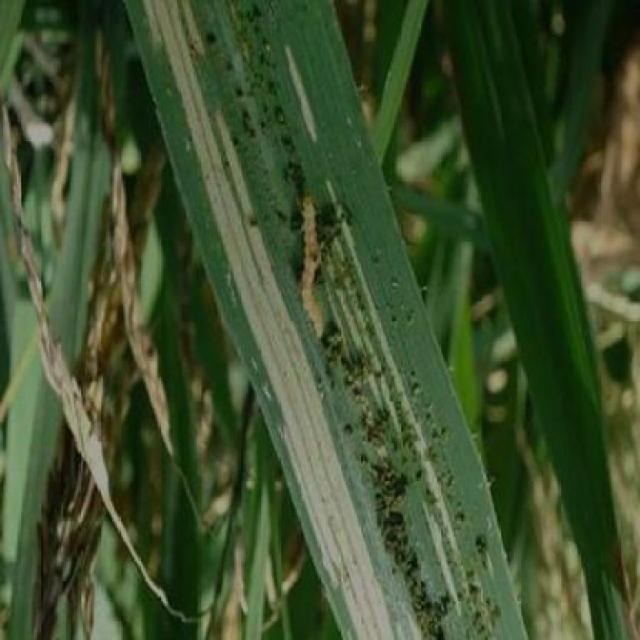leaf-folder: (279, 181, 343, 350)
